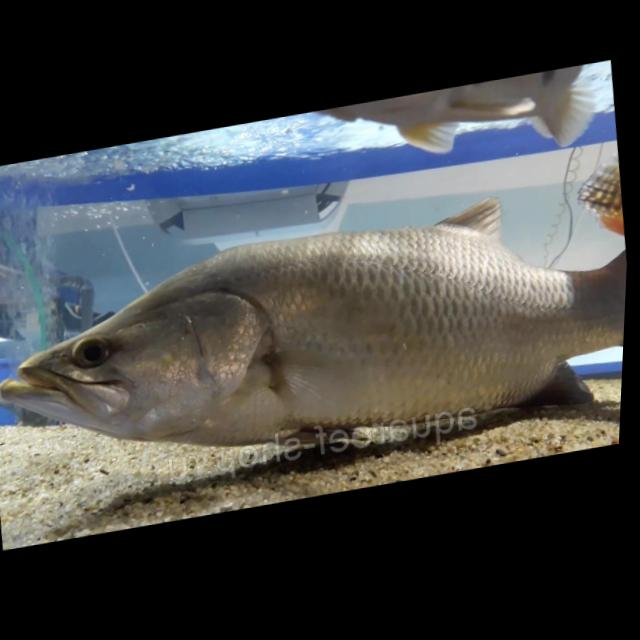Seabass: (0, 171, 631, 508)
